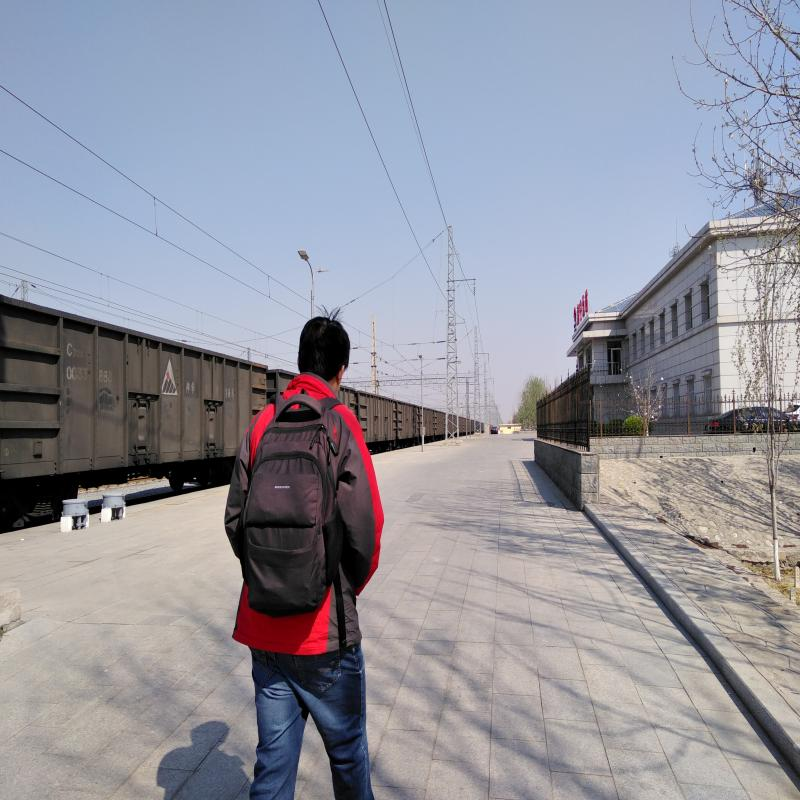train: (4, 298, 273, 469)
